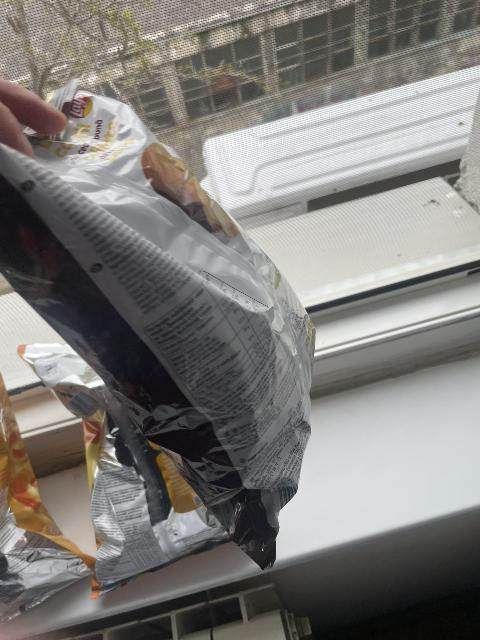Chio Cascaval 125g: (11, 336, 276, 599)
Chio Hula Hoops Cheese 70g: (1, 323, 87, 615)
Lays Beef Grilled Ribs 125g: (0, 85, 312, 568)
